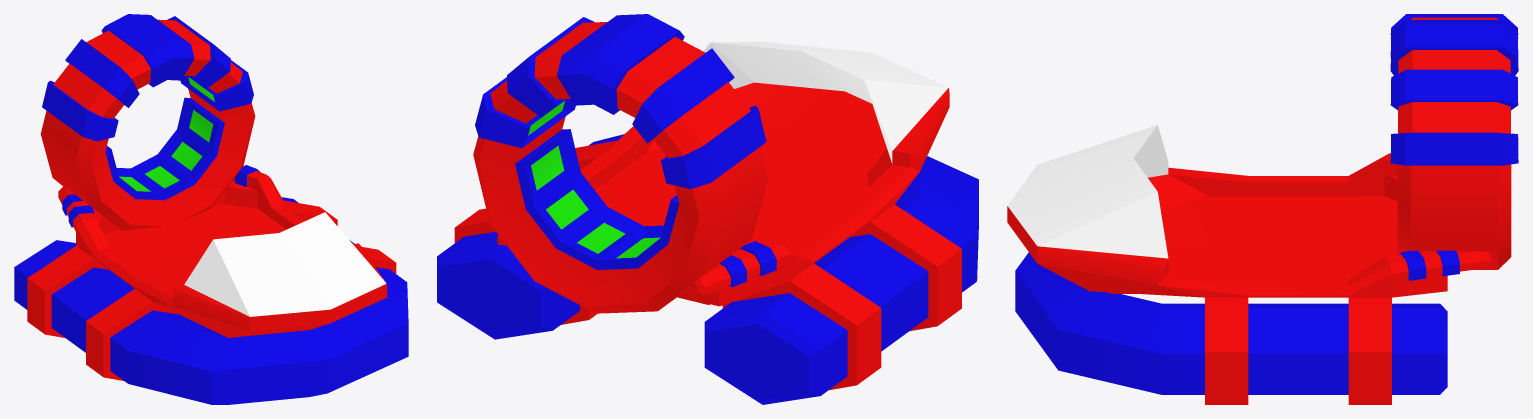
File: Airboat2.gltf
3 views of the same model, side by side, from view 1: azimuth 30°, elevation 25°; view 2: azimuth 150°, elevation 25°; view 3: azimuth 270°, elevation 25° (orthographic). The views are drawn at different scales.
Parts seen in each view (by area): view 1: Airboat; view 2: Airboat; view 3: Airboat.
Part boxes in pixels (box(x1,y1,x2,y2)): Airboat: box(14, 14, 408, 404); Airboat: box(437, 14, 978, 404); Airboat: box(1007, 14, 1518, 404).
Bounding box in the file's own units: 8.13 × 6.88 × 10.05.
Materials: 1 (1 with a texture image).
